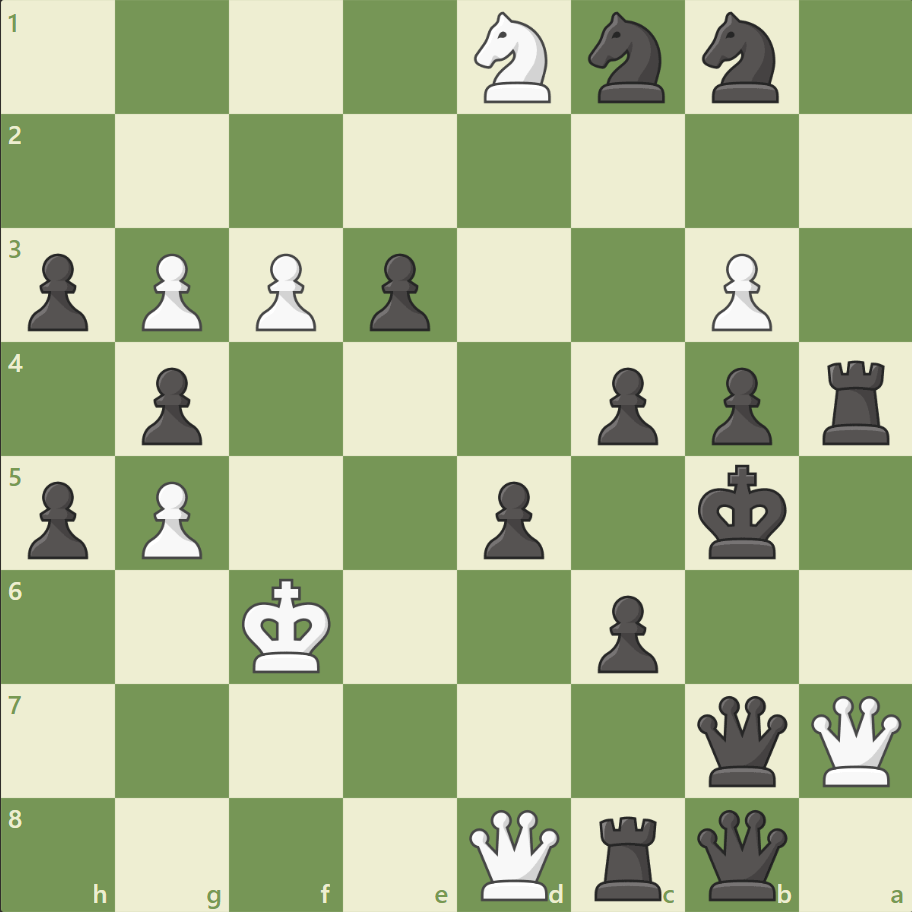K: (238, 571, 338, 679)
N: (465, 7, 562, 110)
P: (133, 473, 208, 564), (701, 246, 776, 337), (247, 246, 322, 337), (133, 246, 208, 337)
Q: (464, 804, 563, 903), (805, 690, 904, 789)
k: (692, 458, 792, 566)
n: (692, 7, 789, 110), (579, 7, 676, 110)
p: (474, 473, 549, 564), (20, 473, 95, 564), (701, 359, 776, 450), (133, 359, 208, 450), (20, 246, 95, 337), (588, 586, 662, 677), (588, 359, 662, 450), (361, 246, 435, 337)
q: (691, 804, 790, 903), (691, 690, 790, 789)
r: (587, 806, 670, 904), (814, 352, 897, 449)
